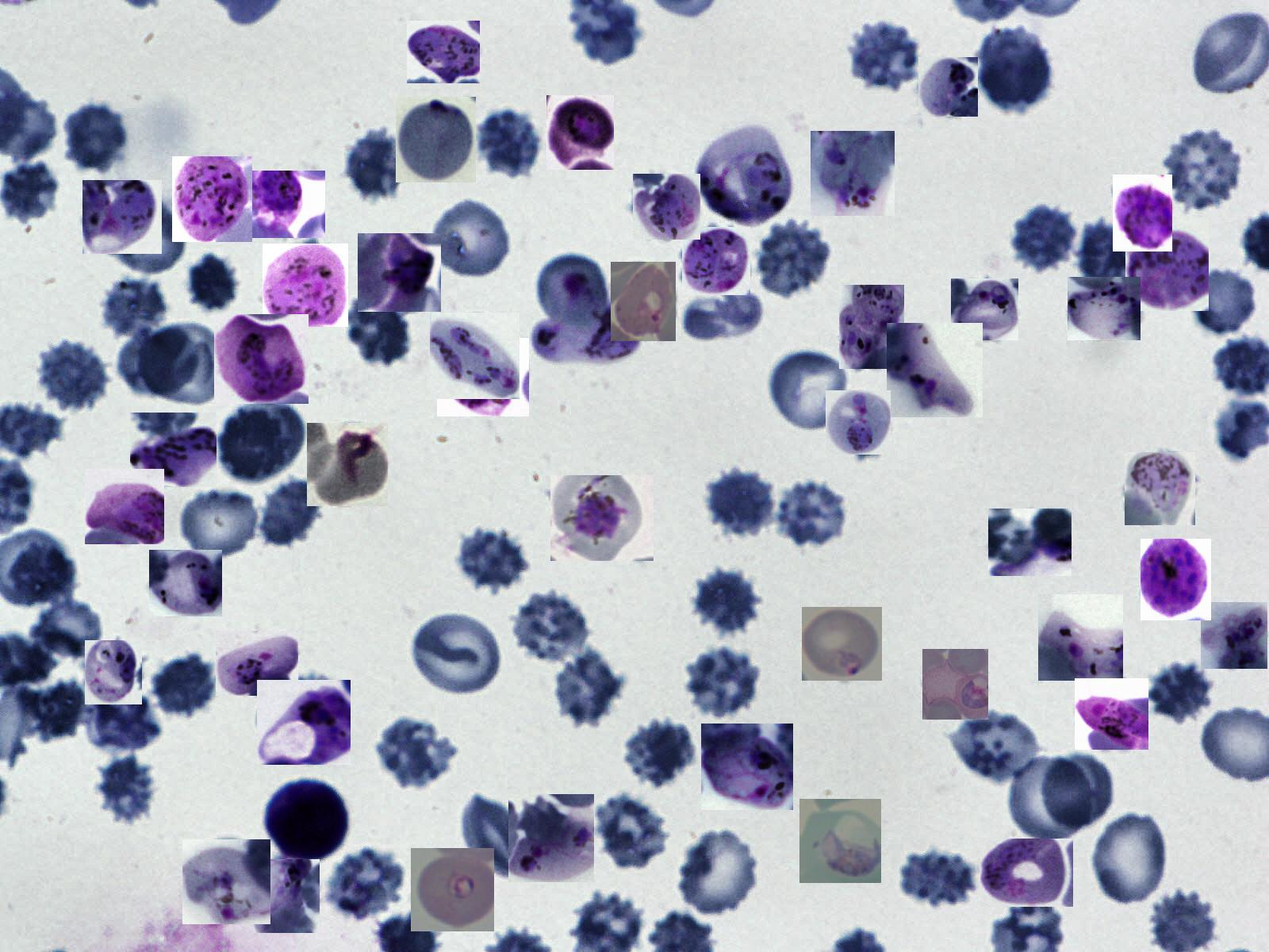Infected: (696, 121, 793, 225), (532, 277, 642, 363), (887, 323, 983, 417), (550, 475, 654, 561), (214, 314, 309, 404), (257, 680, 351, 765), (701, 724, 793, 810), (1125, 217, 1209, 311), (430, 313, 519, 399), (508, 794, 594, 882), (182, 839, 270, 924), (1038, 594, 1123, 681), (265, 777, 350, 863), (437, 338, 529, 416), (811, 131, 895, 216), (263, 244, 348, 327), (411, 848, 494, 931), (799, 799, 881, 883), (172, 156, 252, 242), (396, 97, 476, 182), (307, 423, 388, 506), (358, 233, 441, 312), (130, 413, 217, 487), (980, 839, 1073, 907), (85, 469, 164, 544), (802, 607, 882, 681), (82, 180, 162, 254), (1141, 539, 1211, 620), (988, 509, 1072, 576), (839, 285, 904, 369), (216, 631, 298, 696), (1075, 678, 1148, 750), (611, 262, 676, 341), (1125, 452, 1195, 525), (546, 95, 614, 170), (251, 171, 325, 238), (254, 859, 320, 933), (149, 550, 222, 616), (922, 649, 988, 720), (683, 227, 751, 295), (1068, 277, 1141, 340), (407, 21, 480, 83), (1113, 175, 1172, 251), (634, 174, 701, 240), (1201, 602, 1267, 669), (826, 390, 891, 455), (951, 278, 1018, 340), (85, 640, 142, 704), (918, 58, 978, 117)
Uninfected: (408, 609, 502, 698), (676, 825, 764, 917), (1091, 811, 1174, 908), (1157, 125, 1248, 211), (766, 346, 853, 432), (1006, 760, 1095, 844), (102, 194, 191, 276), (944, 710, 1043, 783), (218, 399, 305, 482), (504, 588, 594, 667), (371, 712, 462, 789), (140, 324, 226, 405), (431, 198, 513, 282), (753, 216, 834, 298), (980, 24, 1054, 113), (177, 486, 263, 562), (678, 644, 766, 718), (1036, 751, 1116, 832), (619, 716, 702, 794), (461, 795, 536, 878), (546, 647, 622, 728), (692, 565, 769, 639), (594, 797, 669, 872), (34, 339, 109, 413), (446, 525, 530, 591), (338, 294, 412, 368), (772, 478, 851, 547), (1010, 201, 1083, 275), (476, 108, 546, 182), (119, 327, 197, 393), (328, 846, 398, 918), (256, 478, 326, 550), (57, 100, 126, 172), (848, 20, 920, 89), (148, 651, 220, 720), (99, 272, 171, 340), (1184, 271, 1263, 332), (33, 593, 102, 661), (346, 128, 410, 201), (710, 465, 774, 536), (899, 850, 976, 908), (1075, 219, 1134, 291), (1148, 661, 1216, 722), (99, 757, 155, 823), (1, 160, 58, 223), (189, 250, 239, 313)
